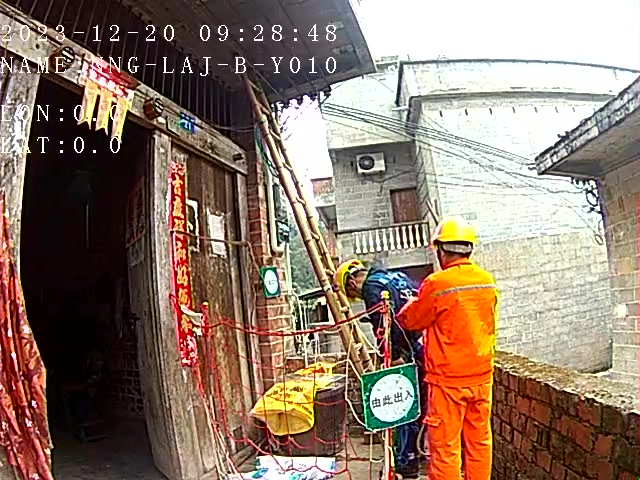halt: (433, 220, 481, 267), (338, 263, 371, 300)
